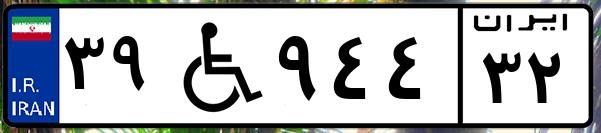2: (525, 38, 570, 115)
3: (57, 26, 110, 100), (475, 38, 525, 113)
4: (385, 28, 445, 110), (330, 28, 385, 110)
9: (270, 28, 330, 110), (110, 28, 158, 98)
ژ (معلولین و جانبازان): (158, 12, 270, 120)
